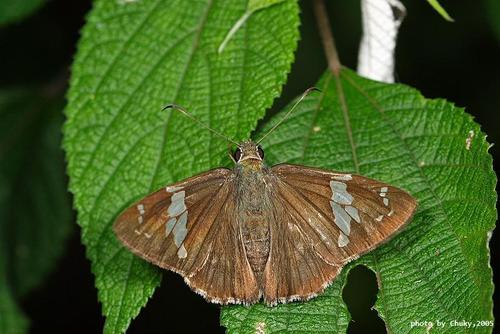Hesperiidae: (111, 88, 420, 301)
